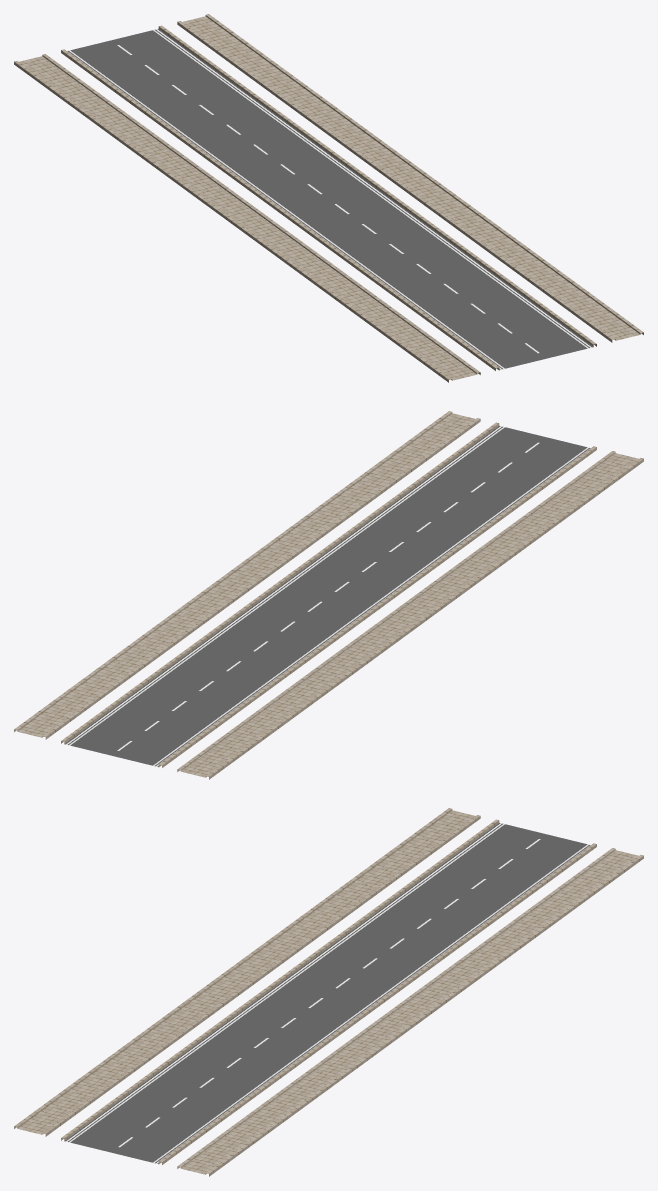
Rendered from Street1Lane80m.FBX.
The picture shows the model from 3 angles, top to bottom: view 1: azimuth 30°, elevation 25°; view 2: azimuth 150°, elevation 25°; view 3: azimuth 330°, elevation 25°; orthographic projection.
Parts seen in each view (by area): view 1: Street1Lane80m; view 2: Street1Lane80m; view 3: Street1Lane80m.
Boxes of the visible parts, x1,y1,x2,y2 form: Street1Lane80m: [14, 14, 643, 382]; Street1Lane80m: [14, 411, 643, 779]; Street1Lane80m: [14, 808, 643, 1176].
Size of the model in its own units: 20.7 by 0.3 by 80.
2 materials, 2 textured.
